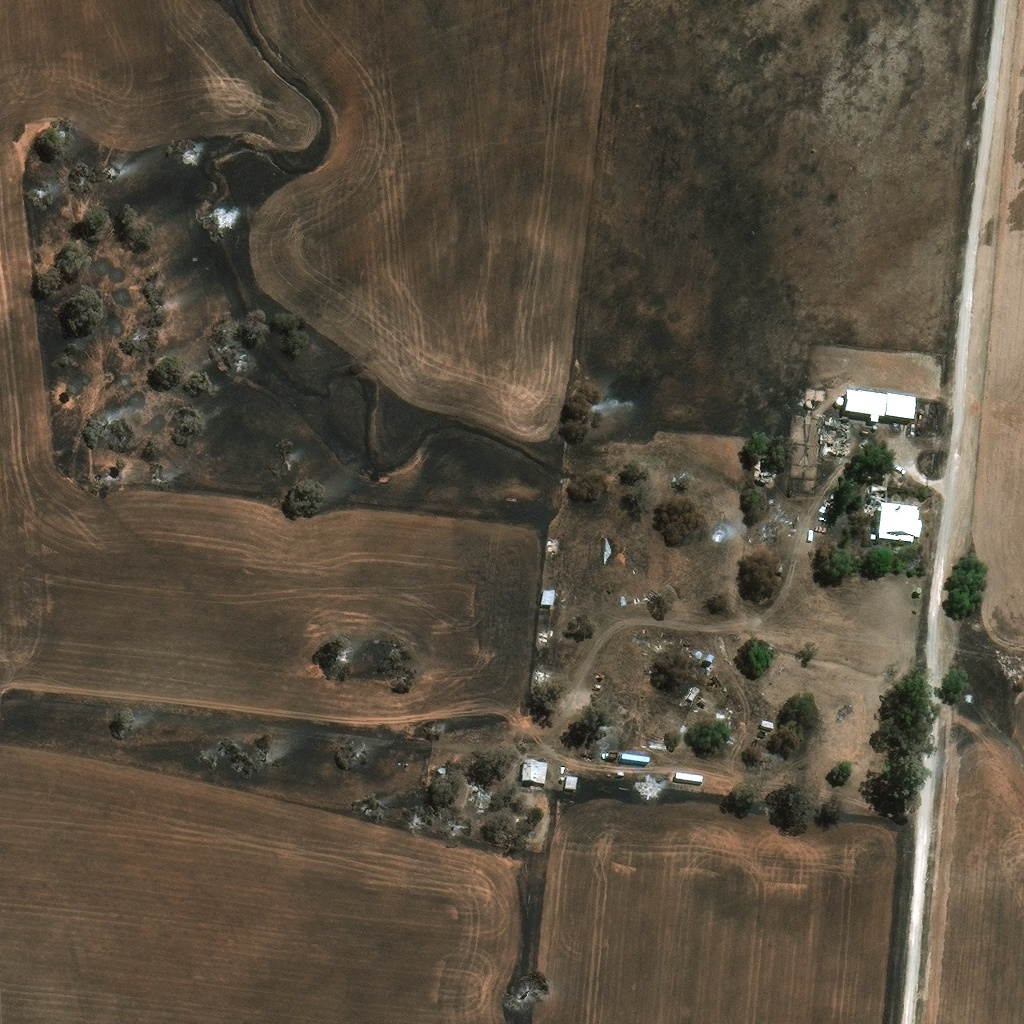0 no-damage: (844, 388, 915, 420), (877, 502, 922, 541), (521, 756, 548, 780), (676, 769, 705, 779), (623, 750, 650, 759), (542, 586, 554, 603), (566, 772, 578, 784), (761, 716, 775, 725), (705, 652, 715, 661), (695, 648, 704, 657), (836, 396, 843, 403)
2 major-damage: (872, 475, 889, 501), (805, 398, 814, 406)
3 destroyed: (821, 415, 850, 452), (761, 448, 779, 480), (538, 627, 550, 640), (535, 665, 544, 678), (548, 536, 557, 548), (582, 745, 597, 752), (865, 502, 877, 510), (924, 412, 927, 418)
4 un-classified: (851, 474, 858, 480)
